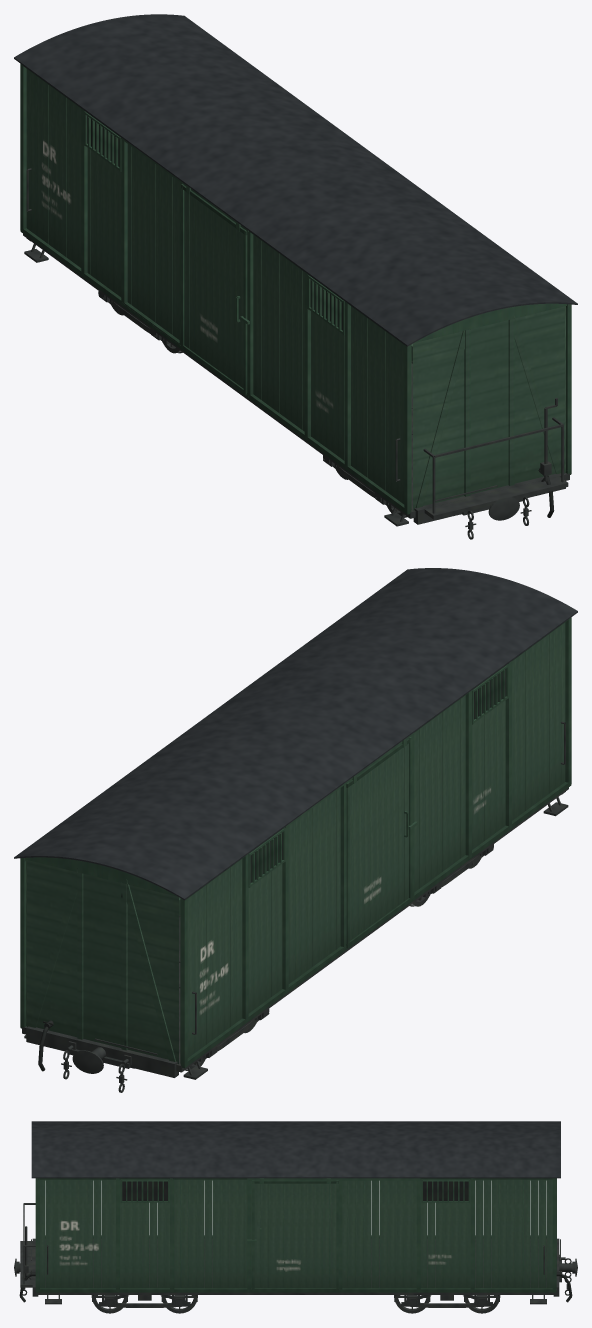
File: ghe_covered_wagon_1000mm.gltf
3 views of the same model, one above another, from view 1: azimuth 30°, elevation 25°; view 2: azimuth 150°, elevation 25°; view 3: azimuth 270°, elevation 25° (orthographic). The views are drawn at different scales.
Parts seen in each view (by area): view 1: ghe_covered_wagon_1000mm; view 2: ghe_covered_wagon_1000mm; view 3: ghe_covered_wagon_1000mm.
Part boxes in pixels (left/top/right/bottom): ghe_covered_wagon_1000mm: left=14, top=14, right=577, bottom=539; ghe_covered_wagon_1000mm: left=14, top=568, right=577, bottom=1092; ghe_covered_wagon_1000mm: left=14, top=1121, right=577, bottom=1313.
Size of the model in its own units: 2.3 by 3.07 by 9.7.
Materials: 2 (2 with a texture image).
